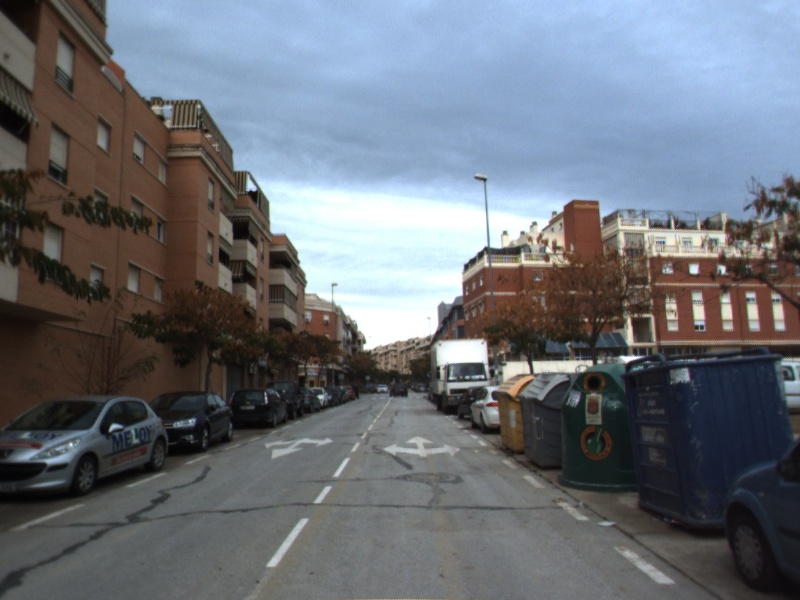STRAIGHT_LEFT_RIGHT: (380, 433, 462, 459)
